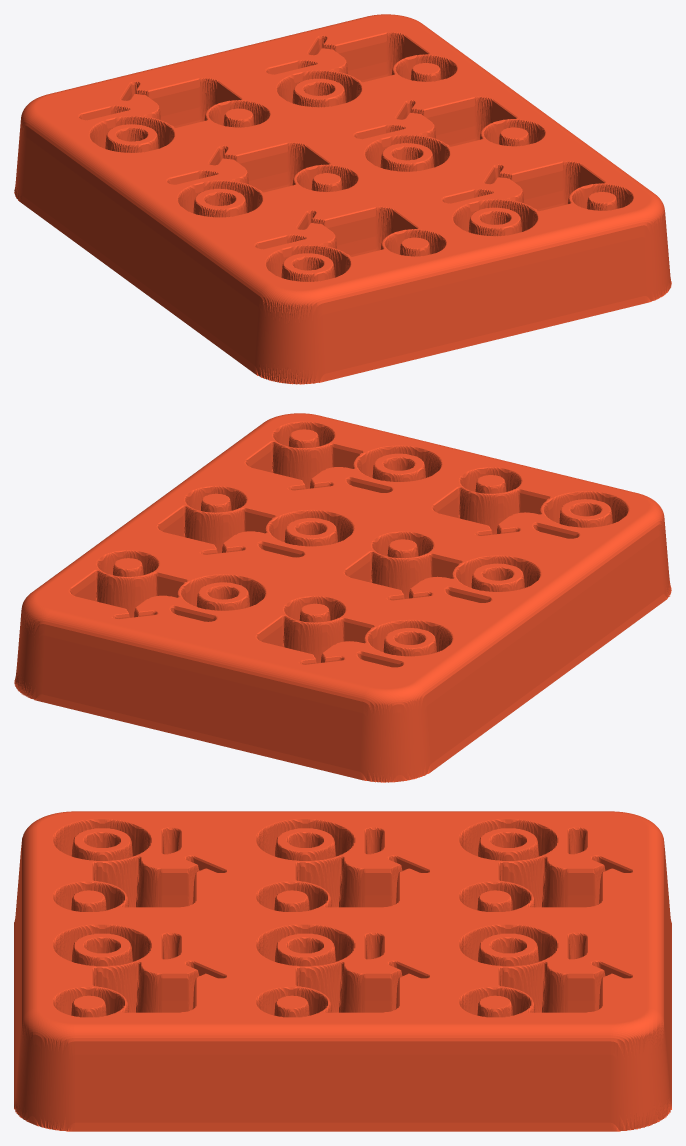
Rendered from mold.glb.
3 views of the same model, one above another, from view 1: azimuth 30°, elevation 25°; view 2: azimuth 150°, elevation 25°; view 3: azimuth 270°, elevation 25° (orthographic). The views are drawn at different scales.
Visible parts, largest first — view 1: geometry_0; view 2: geometry_0; view 3: geometry_0.
Part boxes in pixels (bbox=[...]): geometry_0: bbox=[14, 14, 671, 384]; geometry_0: bbox=[14, 413, 671, 782]; geometry_0: bbox=[14, 811, 671, 1131].
Size of the model in its own units: 0.0808 by 0.0159 by 0.0972.
